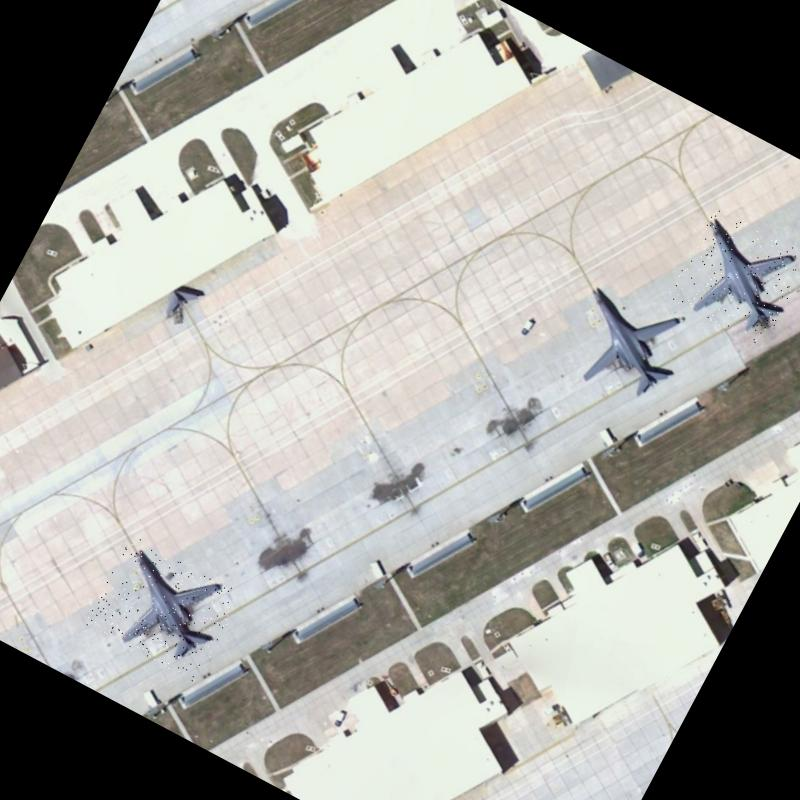A10: (546, 268, 706, 422), (84, 534, 244, 684), (666, 206, 800, 348)
